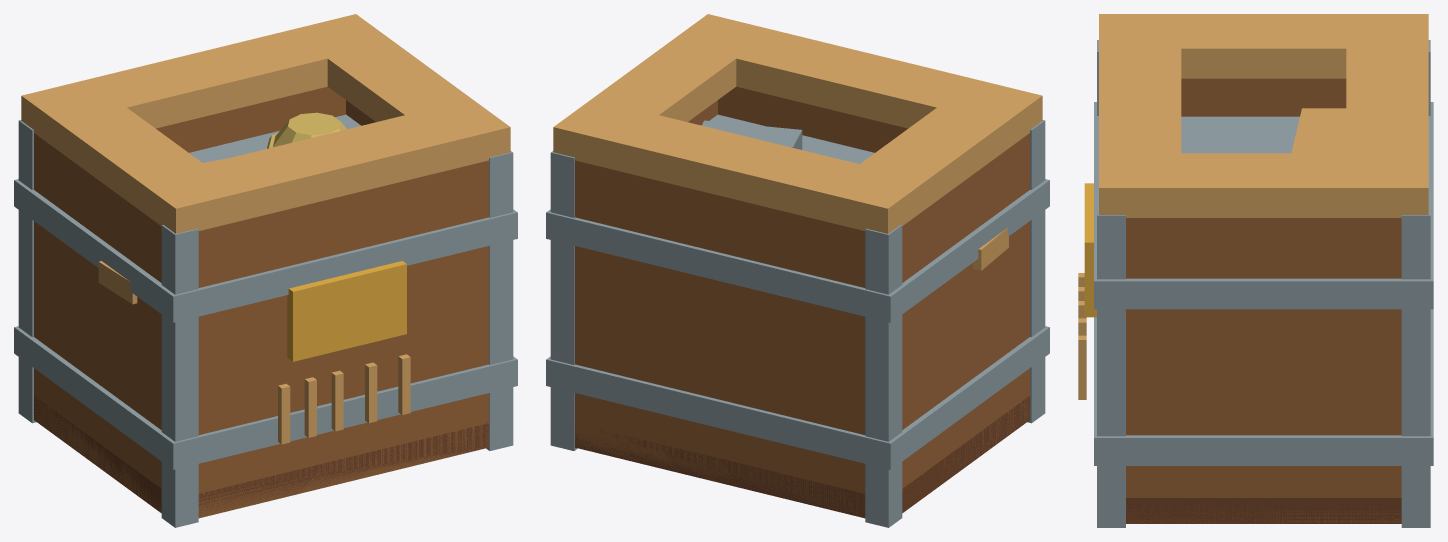
File: ship_donation_crate.glb
The picture shows the model from 3 angles, left to right: view 1: azimuth 30°, elevation 25°; view 2: azimuth 150°, elevation 25°; view 3: azimuth 270°, elevation 25°; orthographic projection. The views are drawn at different scales.
Visible parts, largest first — view 1: Crate_Wall_1, Crate_Wall_3, Crate_Lid_Rail_1, Crate_Band_2, Crate_Lid_End_1, Crate_Lid_Rail_2, Crate_Band_1, Crate_Lid_End_2, Crate_Corner_1, Crate_Plate, Crate_Floor, Crate_Corner_2 (+9 smaller); view 2: Crate_Wall_2, Crate_Wall_3, Crate_Lid_Rail_1, Crate_Band_2, Crate_Band_1, Crate_Lid_End_2, Crate_Lid_Rail_2, Crate_Lid_End_1, Crate_Floor, Crate_Corner_3, Crate_Corner_4, Crate_Wall_1 (+3 smaller); view 3: Crate_Wall_4, Crate_Lid_Rail_2, Crate_Band_2, Crate_Lid_Rail_1, Crate_Band_1, Crate_Lid_End_1, Crate_Lid_End_2, Crate_Corner_4, Crate_Corner_2, Crate_Floor, Crate_Wall_3, Crate_Fill_Plank_2 (+4 smaller).
Boxes of the visible parts, x1,y1,x2,y2 form: Crate_Wall_1: (198, 160, 488, 518); Crate_Wall_3: (35, 134, 161, 512); Crate_Lid_Rail_1: (21, 79, 242, 233); Crate_Band_2: (14, 114, 517, 322); Crate_Lid_End_1: (201, 114, 446, 220); Crate_Lid_Rail_2: (289, 14, 510, 170); Crate_Band_1: (14, 326, 517, 469); Crate_Lid_End_2: (87, 29, 330, 128); Crate_Corner_1: (161, 225, 198, 527); Crate_Plate: (287, 261, 406, 361); Crate_Floor: (34, 396, 488, 514); Crate_Corner_2: (486, 151, 513, 450); Crate_Wall_2: (575, 160, 865, 517); Crate_Wall_3: (902, 134, 1028, 503); Crate_Lid_Rail_1: (821, 79, 1042, 233); Crate_Band_2: (546, 114, 1049, 322); Crate_Band_1: (546, 326, 1049, 469); Crate_Lid_End_2: (617, 114, 862, 220); Crate_Lid_Rail_2: (553, 14, 772, 170); Crate_Lid_End_1: (733, 29, 976, 128); Crate_Floor: (575, 396, 1029, 518); Crate_Corner_3: (865, 225, 902, 527); Crate_Corner_4: (550, 151, 577, 450); Crate_Wall_1: (718, 86, 1029, 419); Crate_Wall_4: (1128, 218, 1399, 523); Crate_Lid_Rail_2: (1099, 153, 1428, 217); Crate_Band_2: (1094, 102, 1433, 309); Crate_Lid_Rail_1: (1099, 14, 1428, 78); Crate_Band_1: (1094, 309, 1433, 465); Crate_Lid_End_1: (1099, 47, 1181, 154); Crate_Lid_End_2: (1346, 47, 1428, 154); Crate_Corner_4: (1401, 203, 1430, 527); Crate_Corner_2: (1097, 203, 1125, 527); Crate_Floor: (1126, 498, 1401, 523); Crate_Wall_3: (1181, 78, 1346, 116); Crate_Fill_Plank_2: (1291, 108, 1346, 153).
Size of the model in its own units: 1.04 by 0.9082 by 0.862.
